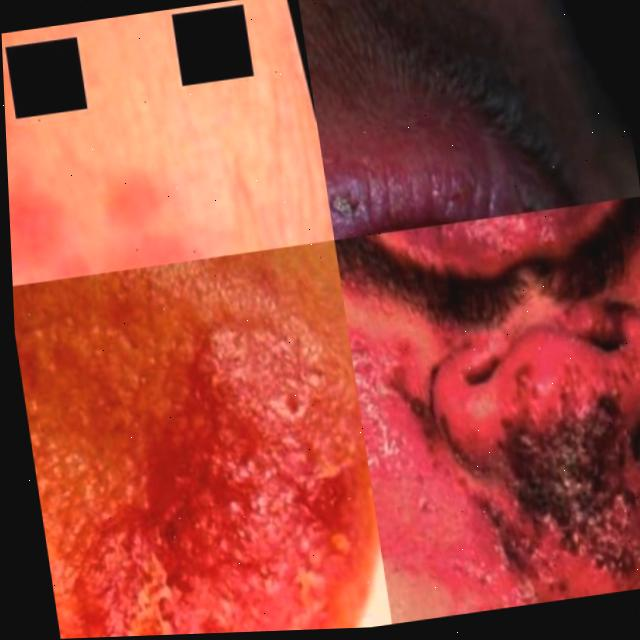lupus-detected: (11, 238, 391, 640), (332, 194, 640, 624), (5, 92, 305, 285), (319, 127, 438, 239), (494, 158, 589, 214)
